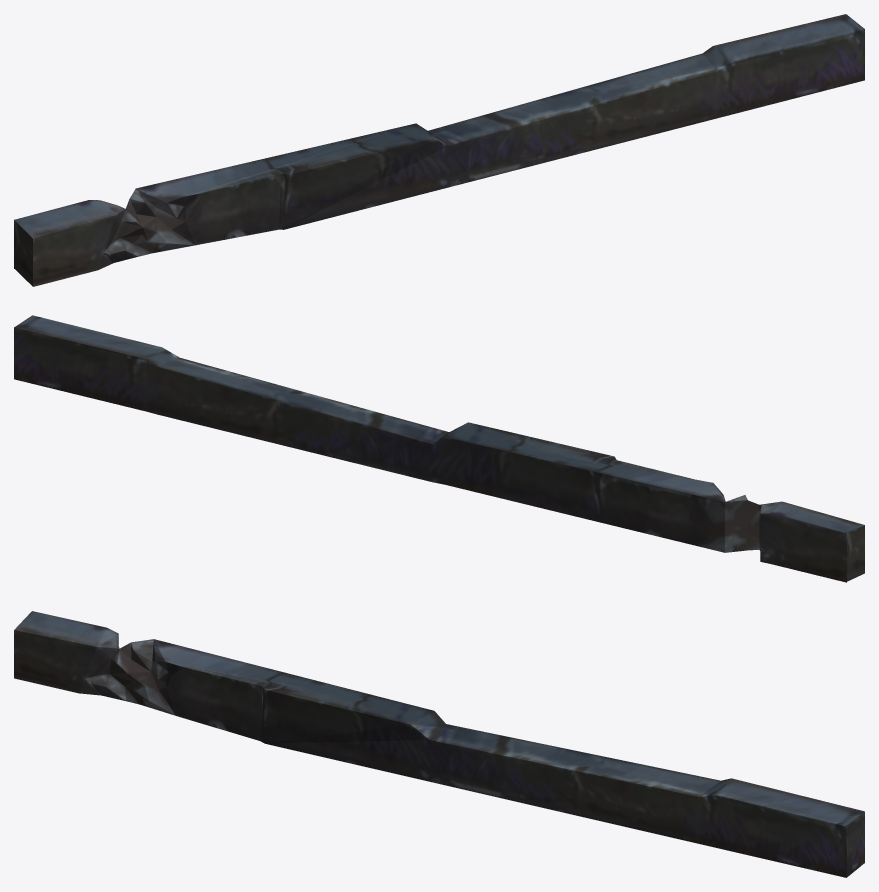
File: HuBian_NightShitou8_fbx.FBX
The picture shows the model from 3 angles, top to bottom: view 1: azimuth 30°, elevation 25°; view 2: azimuth 150°, elevation 25°; view 3: azimuth 330°, elevation 25°; orthographic projection.
Visible parts, largest first — view 1: Object021; view 2: Object021; view 3: Object021.
Boxes of the visible parts, x1,y1,x2,y2 form: Object021: [14, 14, 864, 286]; Object021: [14, 315, 864, 582]; Object021: [14, 611, 864, 877].
Bounding box in the file's own units: 2.66 × 0.1864 × 0.1206.
